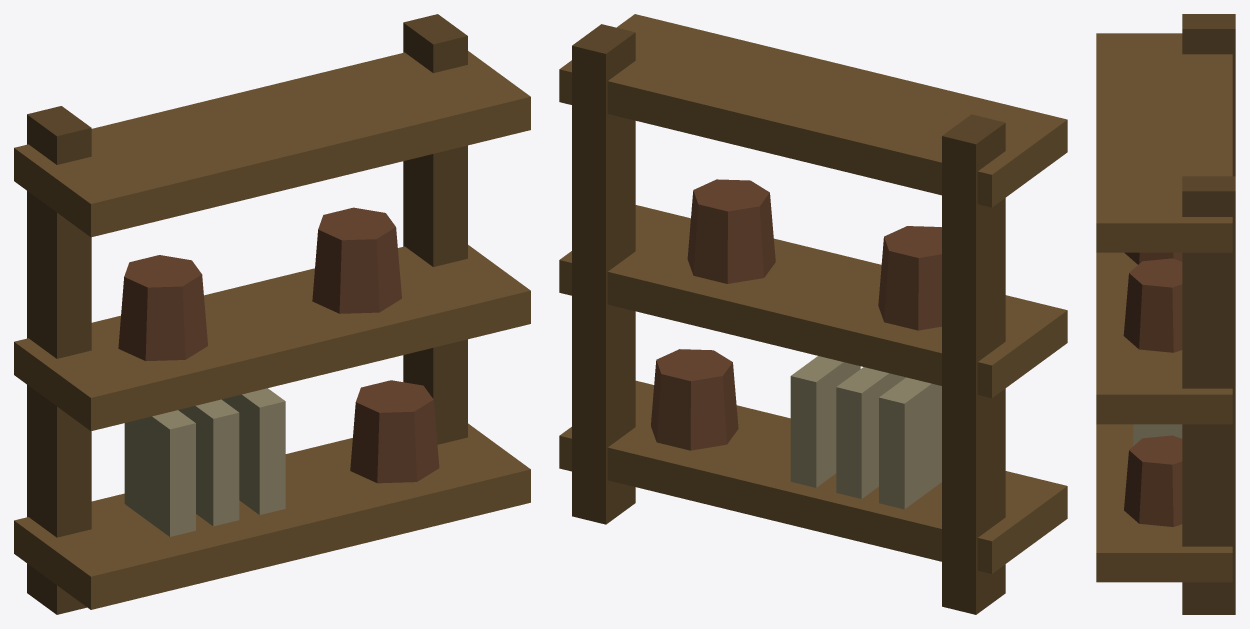
File: personal_shelf.glb
3 renders of one model, left to right at view 1: azimuth 30°, elevation 25°; view 2: azimuth 150°, elevation 25°; view 3: azimuth 270°, elevation 25°, orthographic. The views are drawn at different scales.
Parts seen in each view (by area): view 1: personal_shelf; view 2: personal_shelf; view 3: personal_shelf.
Boxes of the visible parts, bbox=[...] form: personal_shelf: bbox=[14, 14, 530, 614]; personal_shelf: bbox=[559, 14, 1067, 614]; personal_shelf: bbox=[1096, 14, 1235, 614].
Bounding box in the file's own units: 1.52 × 1.58 × 0.47.
